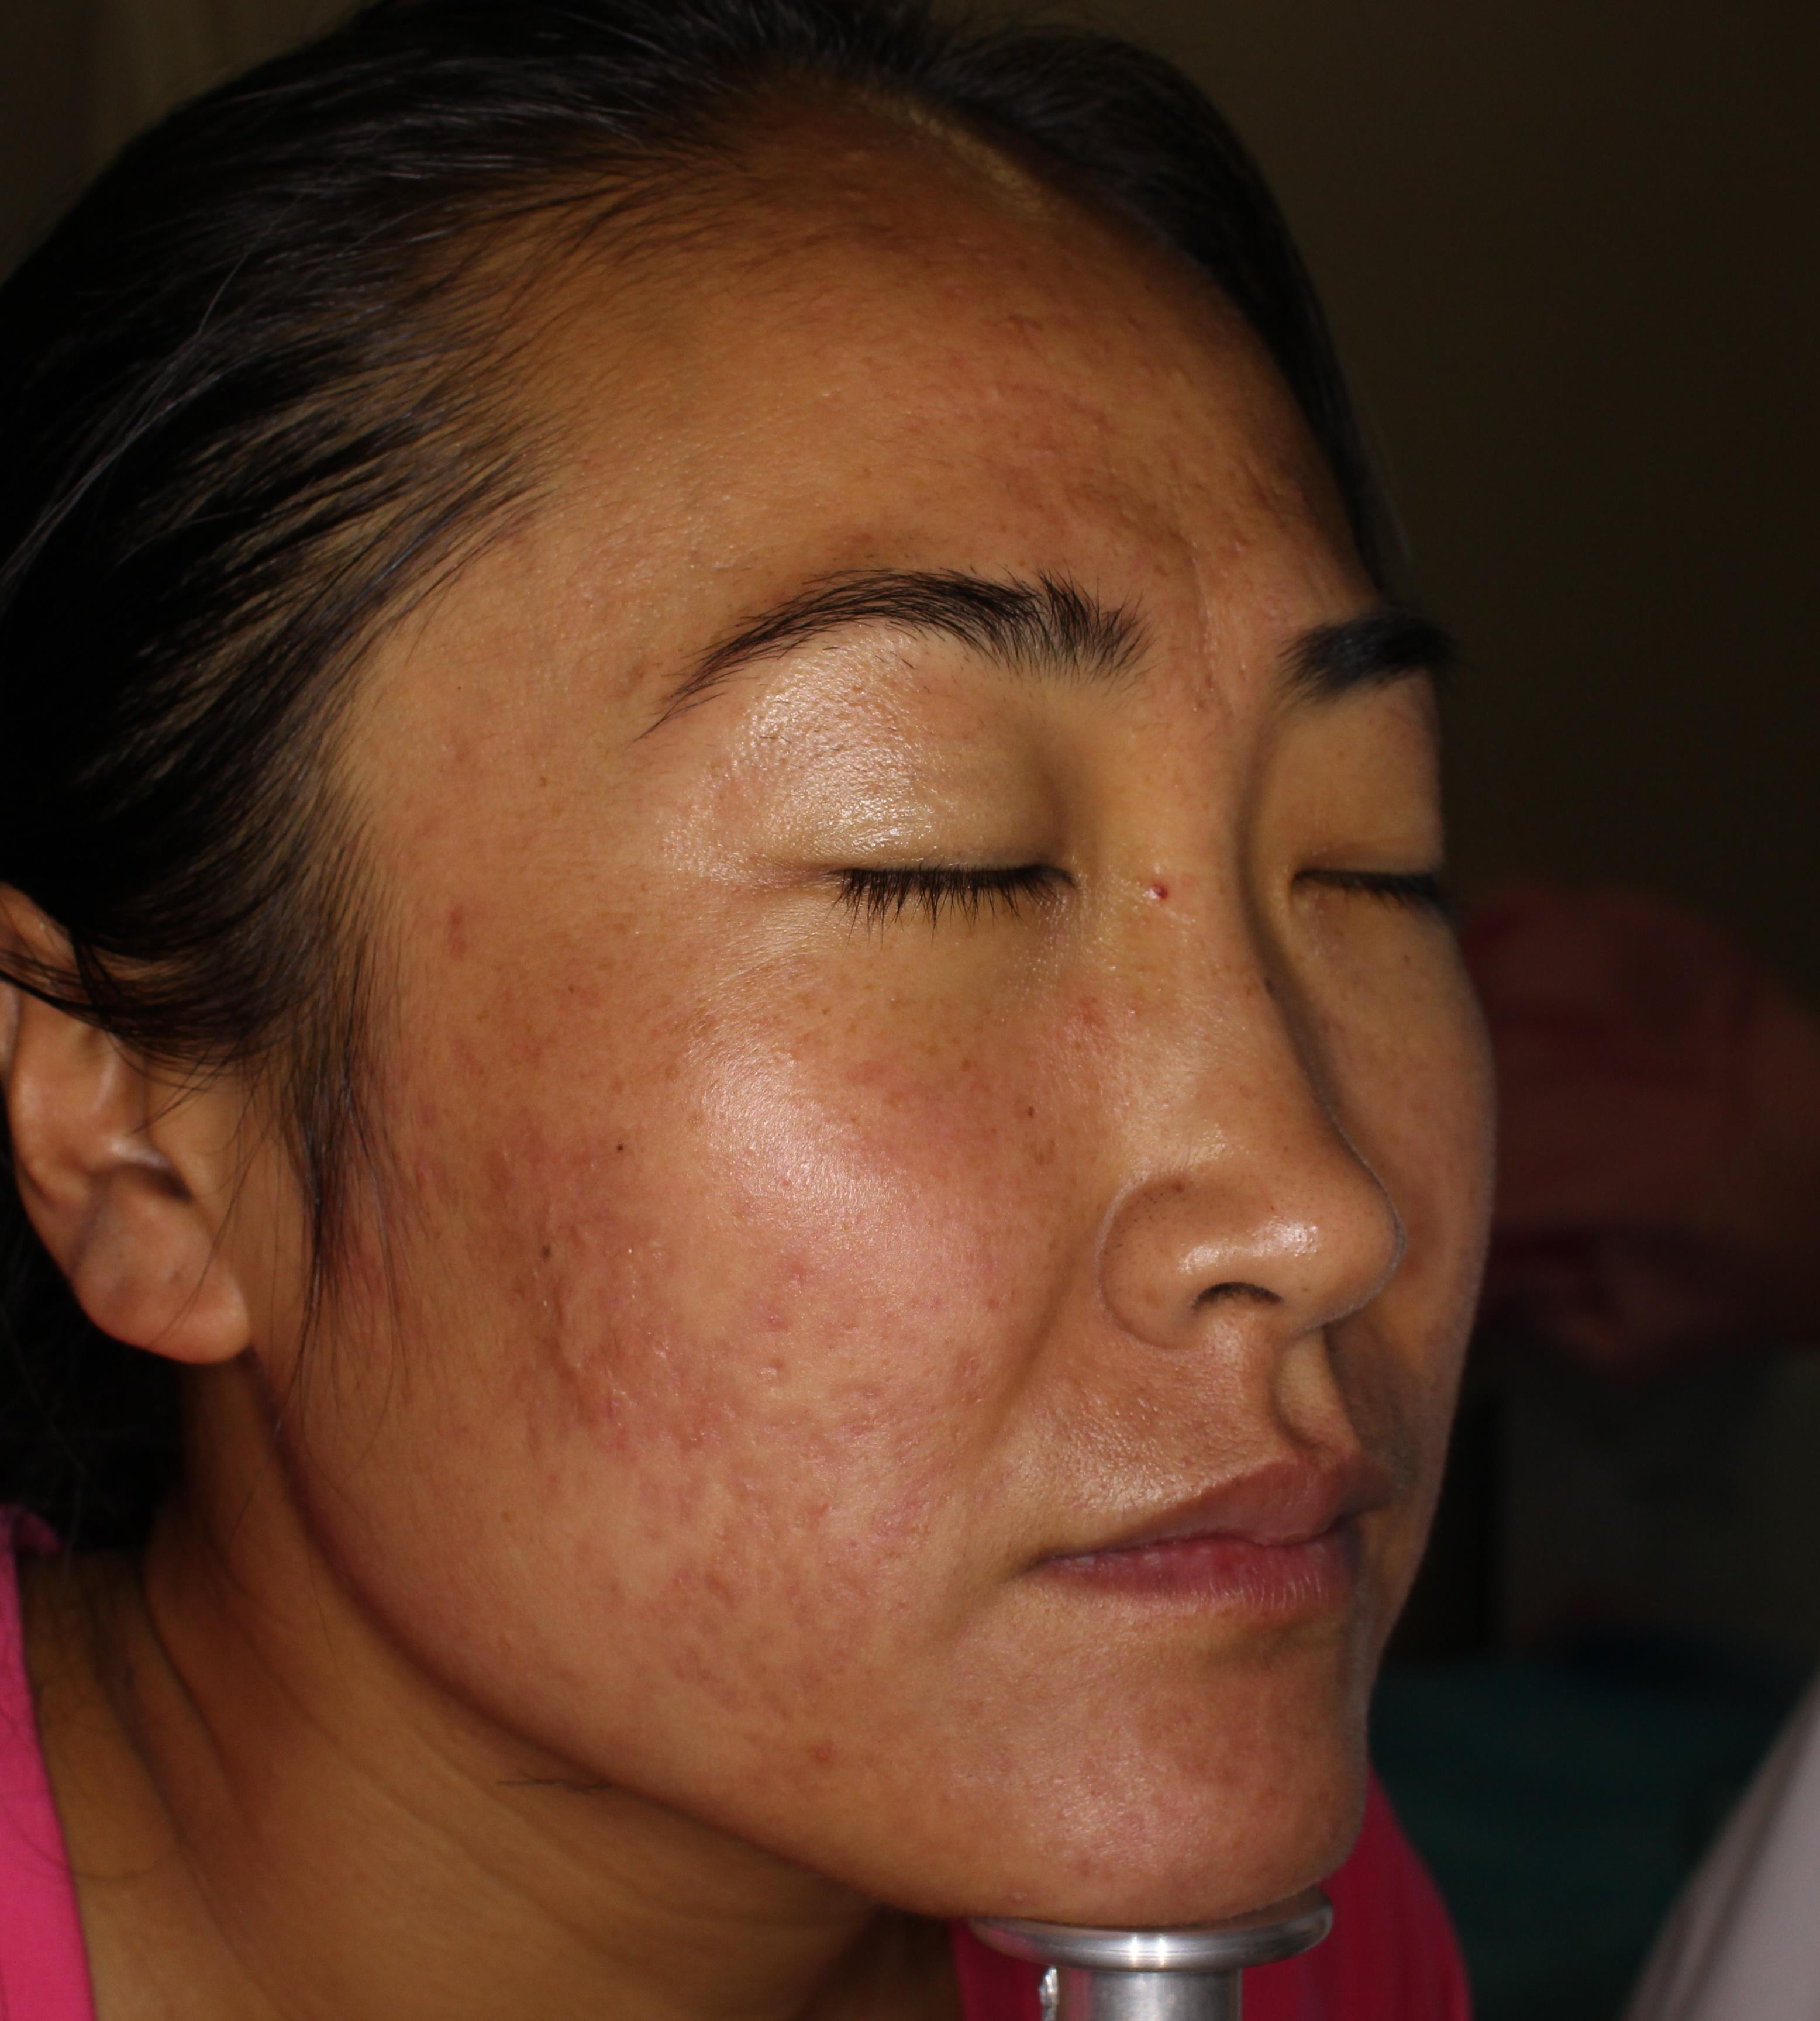fore: (548, 1378, 661, 1442), (467, 1110, 539, 1196), (803, 1715, 866, 1805), (427, 887, 485, 976), (682, 1545, 750, 1621), (552, 1190, 620, 1248), (516, 1315, 615, 1352), (522, 1277, 597, 1315)
